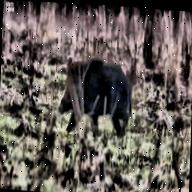boar: (55, 44, 135, 152)
